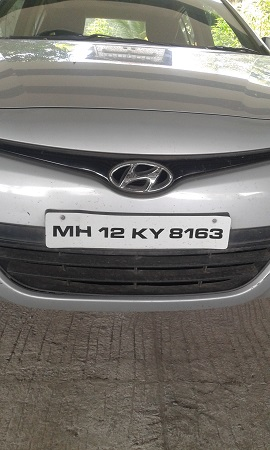licenseplate: (44, 210, 233, 254)
